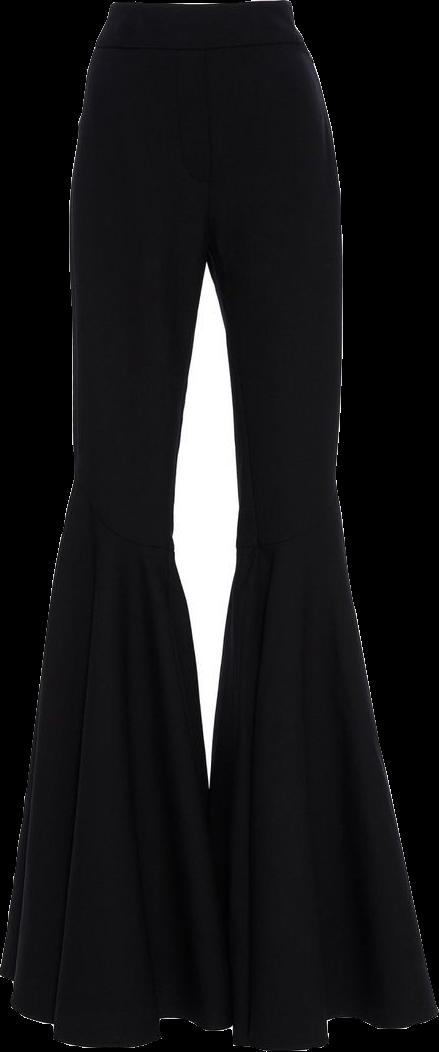Hemline: (0, 965, 212, 1051), (199, 1002, 438, 1050)
Pantleg: (205, 0, 438, 1048), (0, 2, 208, 1045)
Waistline: (94, 32, 302, 57), (108, 0, 289, 15)
